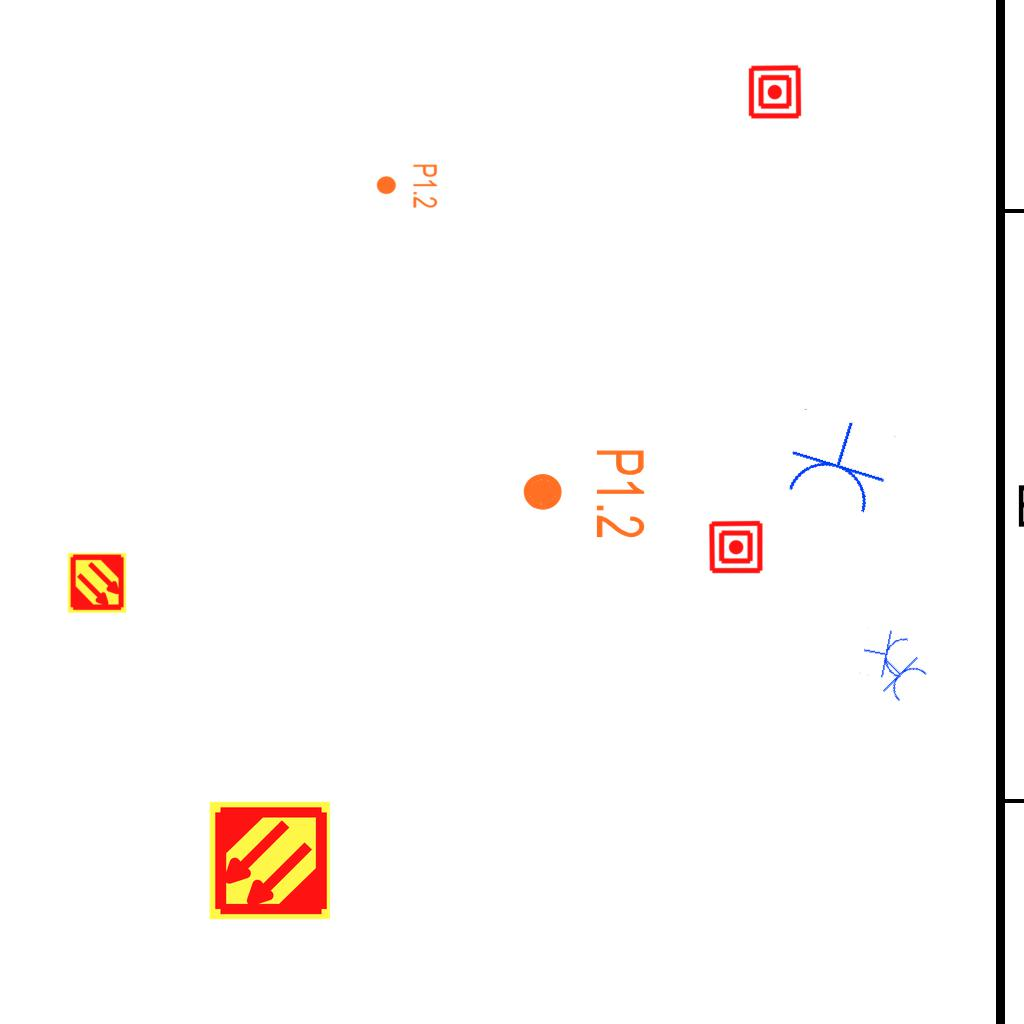ASR_Ansaugrauchmelder: (207, 798, 332, 923), (66, 552, 128, 614)
Downlight_LED_Einbauleuchten_Flur: (520, 447, 648, 540), (375, 163, 439, 209)
NAM-Nichtautomatischer_Melder: (747, 64, 803, 120), (708, 519, 764, 575)
Schukosteckdose_einfach: (777, 407, 899, 520), (866, 640, 932, 707), (859, 625, 911, 684)
